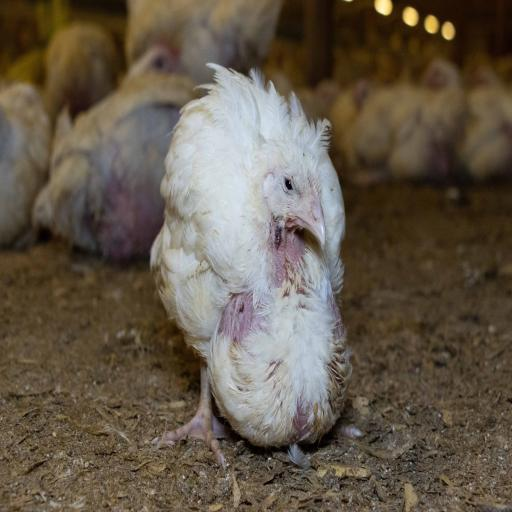disease: (266, 201, 304, 293), (261, 156, 314, 202), (288, 145, 320, 215)
